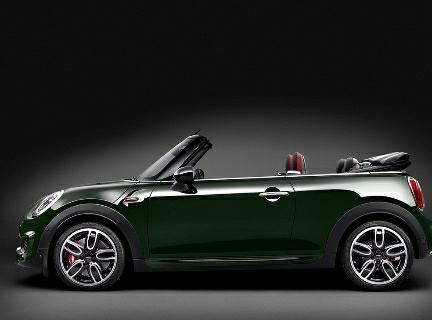MINI-JCW: (16, 133, 431, 302)
